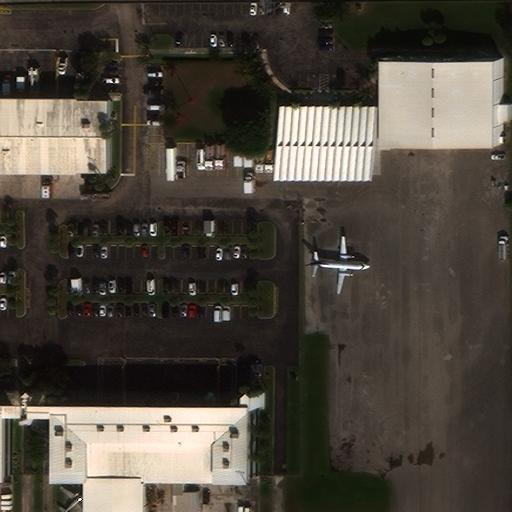Medium Civil Transport: (305, 236, 369, 294)
Small Civil Transport: (61, 485, 89, 512)
